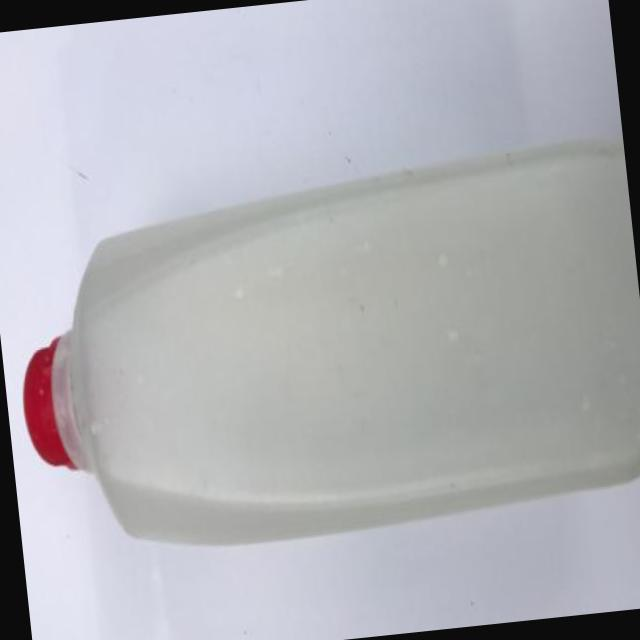Recycle: (1, 134, 640, 568)
